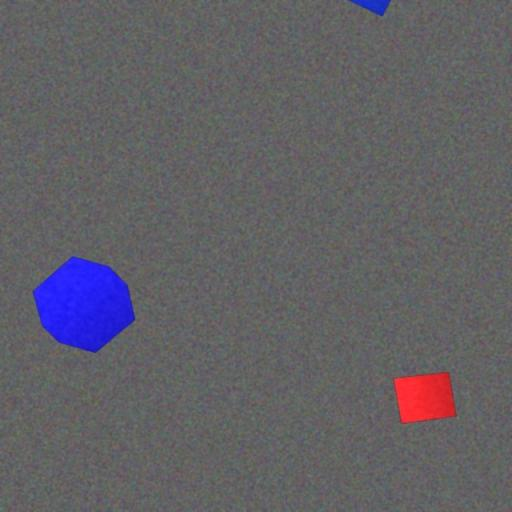RED_SQUARE: (393, 371, 457, 425)
